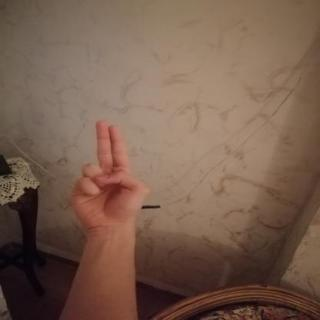TA: (58, 112, 153, 238)
